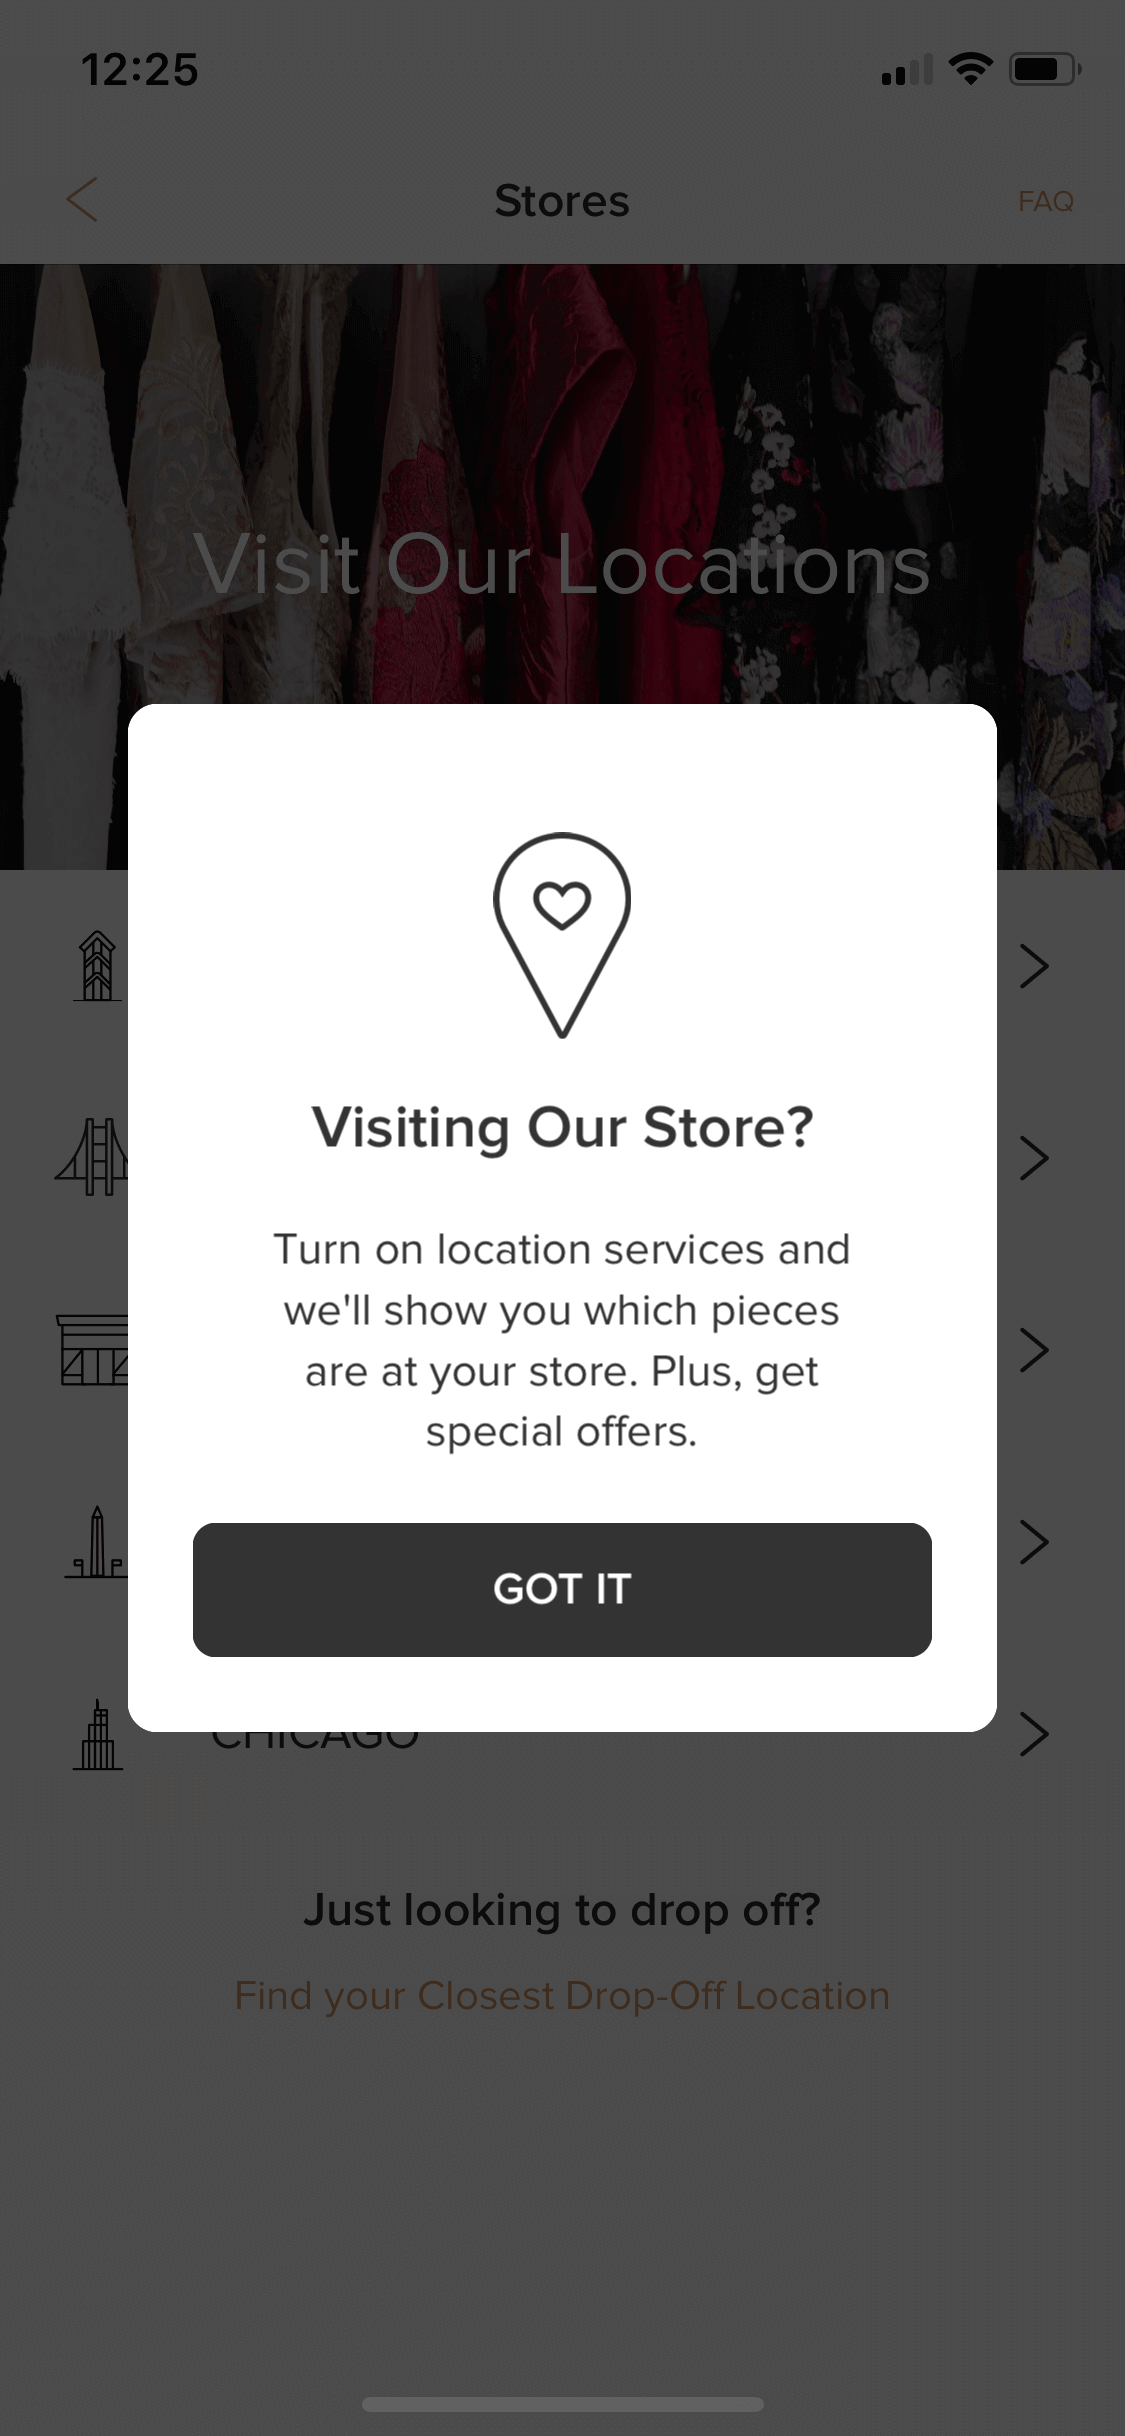Buttons: (177, 1504, 949, 1679), (982, 151, 1094, 249), (40, 152, 137, 252)
